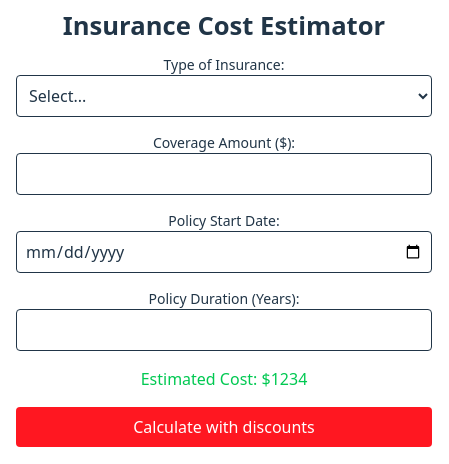
Scenario: Form › shows error message on API error
Select "Auto" in the dropdown labelled "Type of Insurance:" at coordinates (224, 96), box [16,74,432,116]
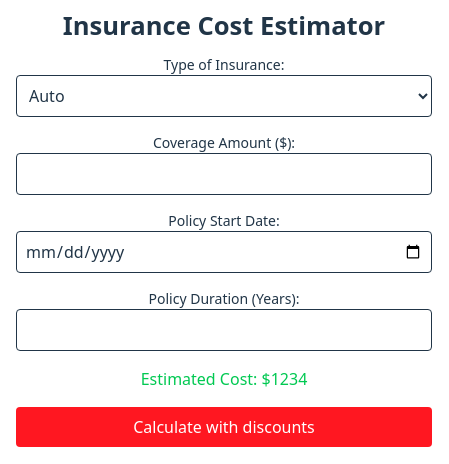
Type "2000" into the number field labelled "Coverage Amount ($):" at coordinates (224, 174), box [16,152,432,194]
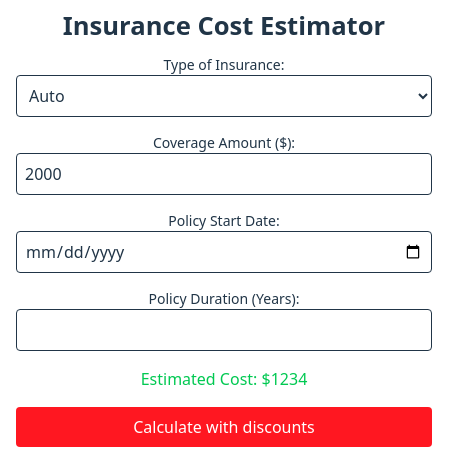
Type "2024-06-01" into the date field labelled "Policy Start Date:" at coordinates (224, 252), box [16,230,432,272]
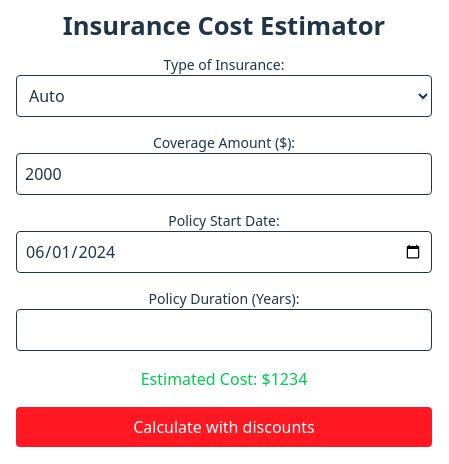
Type "2" into the number field labelled "Policy Duration (Years):" at coordinates (224, 330), box [16,308,432,350]
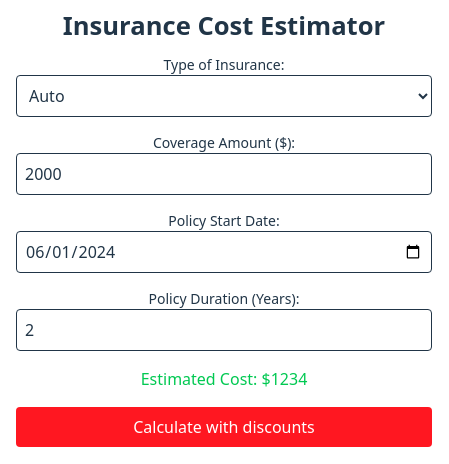
Click the button "Calculate with discounts" at coordinates (224, 426), box [16,406,432,446]
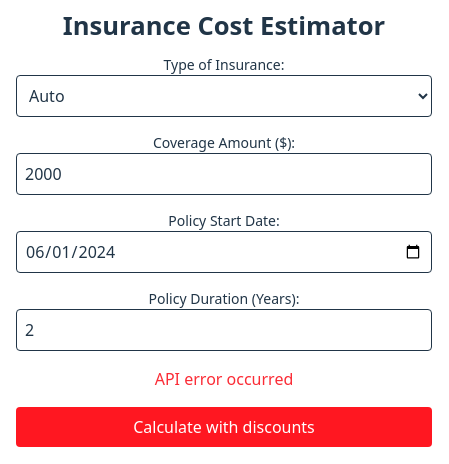
Expected: the text "API error occurred" is shown, [155,368,293,390]
